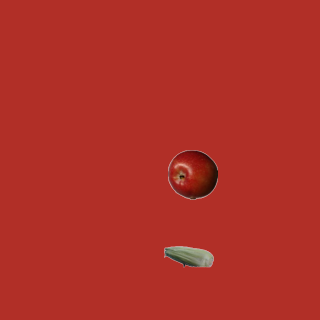Apple Braeburn: (167, 149, 217, 199)
Corn Husk: (163, 231, 213, 281)
